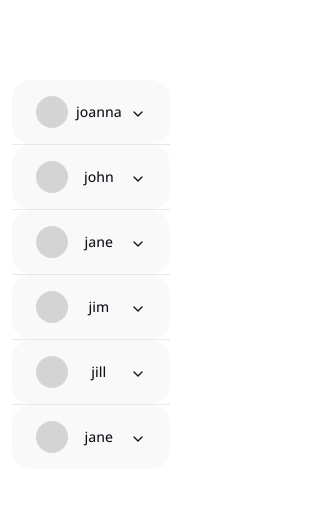
Test case: SearchUserAccordion › should display the user's repositories
Step 1. Click the button "joanna" → [91, 112], box [12,80,170,144]
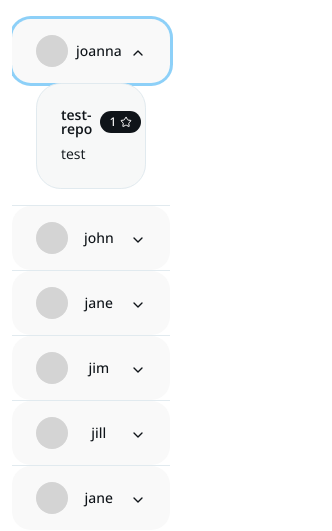
Expected: the number of links "test-repo" is 1, [61,108,92,136]
